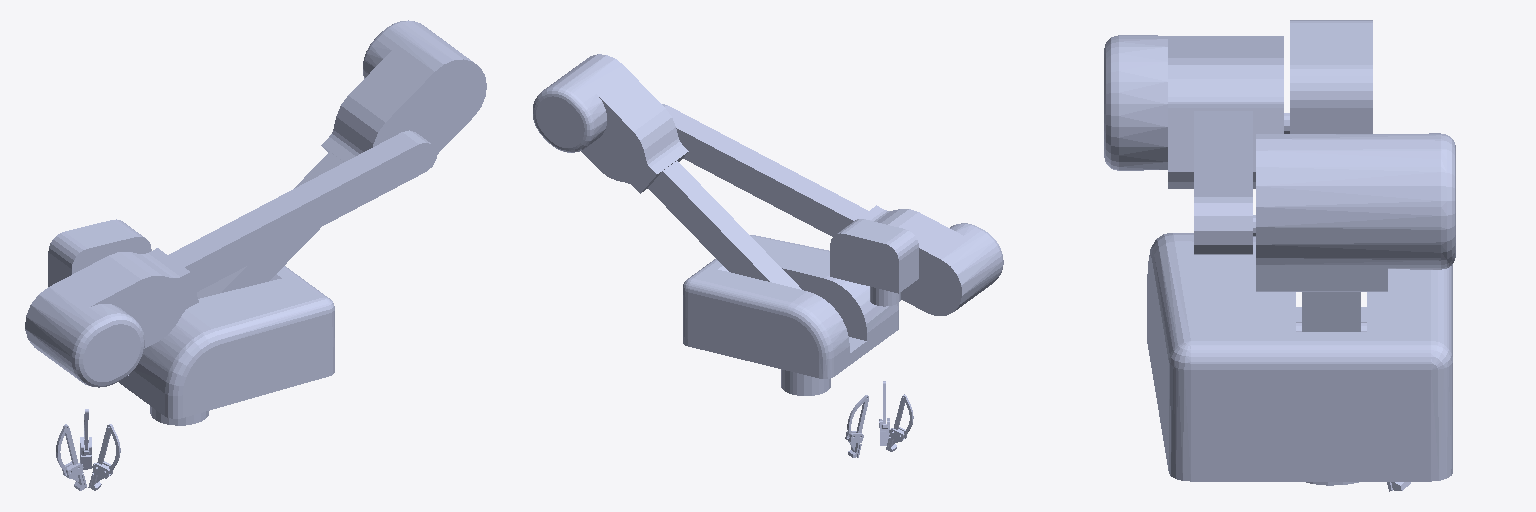
The robot description file, URDF, robot "pipoudou":
<?xml version="1.0" encoding="utf-8" ?>
<!-- This URDF was automatically created by SolidWorks to URDF Exporter! Originally created by [author] ([email redacted]) 
     Commit Version: 1.6.0-4-g7f85cfe  Build Version: 1.6.7995.38578
     For more information, please see http://wiki.ros.org/sw_urdf_exporter -->
<robot name="pipoudou">
    <link name="base_link">
        <!-- <inertial>
            <origin xyz="-0.00589404771376543 -0.172216921474908 0.0957187730055203" rpy="0 0 0" />
            <mass value="10.9085561099122" />
            <inertia ixx="0.0835006955896213" ixy="-0.000486302956665482" ixz="-1.68830866381301E-05" iyy="0.0780175982250961" iyz="-0.000372207979748105" izz="0.144629915038495" />
        </inertial> -->
        <visual>
            <origin xyz="0 0 0" rpy="0 0 0" />
            <geometry>
                <mesh filename="package://pipoudou/meshes/base_link.STL" />
            </geometry>
            <material name="">
                <color rgba="0.792156862745098 0.819607843137255 0.933333333333333 1" />
            </material>
        </visual>
        <collision>
            <origin xyz="0 0 0" rpy="0 0 0" />
            <geometry>
                <mesh filename="package://pipoudou/meshes/base_link.STL" />
            </geometry>
        </collision>
    </link>
    <link name="Joint_Link_1">
        <inertial>
            <origin xyz="-0.0419354714749062 0.0571907967511279 -0.0194583189020789" rpy="0 0 0" />
            <mass value="4.05461553371115" />
            <inertia ixx="0.0186674836378778" ixy="0.00144429847151249" ixz="0.000894000961160699" iyy="0.0327190095637458" iyz="0.000447725667688059" izz="0.0226784769639849" />
        </inertial>
        <visual>
            <origin xyz="0 0 0" rpy="0 0 0" />
            <geometry>
                <mesh filename="package://pipoudou/meshes/Joint_Link_1.STL" />
            </geometry>
            <material name="">
                <color rgba="0.792156862745098 0.819607843137255 0.933333333333333 1" />
            </material>
        </visual>
        <collision>
            <origin xyz="0 0 0" rpy="0 0 0" />
            <geometry>
                <mesh filename="package://pipoudou/meshes/Joint_Link_1.STL" />
            </geometry>
        </collision>
    </link>
    <joint name="Joint_Link_1" type="revolute">
        <origin xyz="0 0 0.126" rpy="1.5708 0 3.1415" />
        <parent link="base_link" />
        <child link="Joint_Link_1" />
        <axis xyz="0 1 0" />
        <limit
          lower="-3.1515"
          upper="2.96706"
          effort="0"
          velocity="0" />
    </joint>
    <link name="Joint_Link_2">
        <inertial>
            <origin xyz="-0.00530103912834451 -0.267556363757934 -0.201059920551774" rpy="0 0 0" />
            <mass value="2.14091331405897" />
            <inertia ixx="0.0351900118557783" ixy="-0.00115816661681989" ixz="-0.000870324597093157" iyy="0.0151835424012374" iyz="-0.0159425460381403" izz="0.0244184526983205" />
        </inertial>
        <visual>
            <origin xyz="0 0 0" rpy="0 0 0" />
            <geometry>
                <mesh filename="package://pipoudou/meshes/Joint_Link_2.STL" />
            </geometry>
            <material name="">
                <color rgba="0.792156862745098 0.819607843137255 0.933333333333333 1" />
            </material>
        </visual>
        <collision>
            <origin xyz="0 0 0" rpy="0 0 0" />
            <geometry>
                <mesh filename="package://pipoudou/meshes/Joint_Link_2.STL" />
            </geometry>
        </collision>
    </link>
    <joint name="Joint_Link_2" type="revolute">
        <origin xyz="-0.0015 0.0542 0" rpy="1.5707963267949 1.5707963267949 0" />
        <parent link="Joint_Link_1" />
        <child link="Joint_Link_2" />
        <axis xyz="1 0 0" />
        <limit
          lower="-0.03073"
          upper="2.5"
          effort="0"
          velocity="0" />
    </joint>
    <link name="Joint_Link_3">
        <inertial>
            <origin xyz="0.00781705470548592 -0.352845842017961 -0.094791262080411" rpy="0 0 0" />
            <mass value="2.05117896930323" />
            <inertia ixx="0.0447591316884685" ixy="0.00202554005626431" ixz="0.000544156896478173" iyy="0.00549957380946362" iyz="-0.0107586884747149" izz="0.042656832970381" />
        </inertial>
        <visual>
            <origin xyz="0 0 0" rpy="0 0 0" />
            <geometry>
                <mesh filename="package://pipoudou/meshes/Joint_Link_3.STL" />
            </geometry>
            <material name="">
                <color rgba="0.792156862745098 0.819607843137255 0.933333333333333 1" />
            </material>
        </visual>
        <collision>
            <origin xyz="0 0 0" rpy="0 0 0" />
            <geometry>
                <mesh filename="package://pipoudou/meshes/Joint_Link_3.STL" />
            </geometry>
        </collision>
    </link>
    <joint name="Joint_Link_3" type="revolute">
        <origin xyz="0.0729999976962511 -0.279802779166052 -0.21026270498443" rpy="-3.14159265358979 0 0" />
        <parent link="Joint_Link_2" />
        <child link="Joint_Link_3" />
        <axis xyz="1 0 0" />
        <limit
          lower="-2.87979"
          upper="0.0872665"
          effort="0"
          velocity="0" />
    </joint>
    <link name="Joint_Link_4">
        <inertial>
            <origin xyz="-0.00128145900425441 -0.00643282828050407 -0.0156990390541649" rpy="0 0 0" />
            <mass value="0.479895774970971" />
            <inertia ixx="0.000704597872477017" ixy="3.95597557777906E-06" ixz="9.65438721271254E-06" iyy="0.000430271991839334" iyz="3.22728443924336E-05" izz="0.000583030081586466" />
        </inertial>
        <visual>
            <origin xyz="0 0 0" rpy="0 0 0" />
            <geometry>
                <mesh filename="package://pipoudou/meshes/Joint_Link_4.STL" />
            </geometry>
            <material name="">
                <color rgba="0.792156862745098 0.819607843137255 0.933333333333333 1" />
            </material>
        </visual>
        <collision>
            <origin xyz="0 0 0" rpy="0 0 0" />
            <geometry>
                <mesh filename="package://pipoudou/meshes/Joint_Link_4.STL" />
            </geometry>
        </collision>
    </link>
    <joint name="Joint_Link_4" type="revolute">
        <origin xyz="-0.0730000000000001 -0.386302779166053 -0.103779394913364" rpy="3.14159265358979 0 3.14159265358979" />
        <parent link="Joint_Link_3" />
        <child link="Joint_Link_4" />
        <axis xyz="1 0 0" />
        <limit
          lower="-1.35"
          upper="1.35"
          effort="0"
          velocity="0" />
    </joint>
    <link name="Hand_Link">
        <inertial>
            <origin xyz="0.003538022414353 0.0934009674500111 0.00572272841520698" rpy="0 0 0" />
            <mass value="0.270355978196213" />
            <inertia ixx="0.000246871496337952" ixy="8.77420170325517E-07" ixz="-2.4101072455635E-07" iyy="0.000198420179541911" iyz="2.18406704397907E-06" izz="0.000248795450899793" />
        </inertial>
        <visual>
            <origin xyz="0 0 0" rpy="0 0 0" />
            <geometry>
                <mesh filename="package://pipoudou/meshes/Hand_Link.STL" />
            </geometry>
            <material name="">
                <color rgba="0.792156862745098 0.819607843137255 0.933333333333333 1" />
            </material>
        </visual>
        <collision>
            <origin xyz="0 0 0" rpy="0 0 0" />
            <geometry>
                <mesh filename="package://pipoudou/meshes/Hand_Link.STL" />
            </geometry>
        </collision>
    </link>
    <joint name="Hand_Link" type="revolute">
        <origin xyz="0 -0.022 0.0179" rpy="1.5707963267949 0 0.49" />
        <parent link="Joint_Link_4" />
        <child link="Hand_Link" />
        <axis xyz="0 1 0" />
        <limit
          lower="-1.93518"
          upper="2.0944"
          effort="0"
          velocity="0" />
    </joint>
    <link name="Finger_link_1">
        <inertial>
            <origin xyz="1.45666936846034E-09 0.0542700697214627 0.00419209902056168" rpy="0 0 0" />
            <mass value="0.00737946646756108" />
            <inertia ixx="1.64260095148187E-06" ixy="3.13372896015046E-14" ixz="9.35831460991248E-15" iyy="3.87683699423791E-07" iyz="3.9770445208839E-08" izz="1.42567240614298E-06" />
        </inertial>
        <visual>
            <origin xyz="0 0 0" rpy="0 0 0" />
            <geometry>
                <mesh filename="package://pipoudou/meshes/Finger_link_1.STL" />
            </geometry>
            <material name="">
                <color rgba="0.792156862745098 0.819607843137255 0.933333333333333 1" />
            </material>
        </visual>
        <collision>
            <origin xyz="0 0 0" rpy="0 0 0" />
            <geometry>
                <mesh filename="package://pipoudou/meshes/Finger_link_1.STL" />
            </geometry>
        </collision>
    </link>
    <joint name="Finger_link_1" type="revolute">
        <origin xyz="-0.015 0.168 0.0259807621135345" rpy="-0.249776778199149 -0.5235987755983 0" />
        <parent link="Hand_Link" />
        <child link="Finger_link_1" />
        <axis xyz="1 0 0" />
        <limit
          lower="-0.1"
          upper="1"
          effort="0"
          velocity="0" />
    </joint>
    <link name="Finger_link_2">
        <inertial>
            <origin xyz="1.45667027042683E-09 0.0542700697214612 0.00419209902056353" rpy="0 0 0" />
            <mass value="0.00737946646756108" />
            <inertia ixx="1.64260095148187E-06" ixy="3.13372893341082E-14" ixz="9.35831476283802E-15" iyy="3.8768369942379E-07" iyz="3.97704452088391E-08" izz="1.42567240614298E-06" />
        </inertial>
        <visual>
            <origin xyz="0 0 0" rpy="0 0 0" />
            <geometry>
                <mesh filename="package://pipoudou/meshes/Finger_link_2.STL" />
            </geometry>
            <material name="">
                <color rgba="0.792156862745098 0.819607843137255 0.933333333333333 1" />
            </material>
        </visual>
        <collision>
            <origin xyz="0 0 0" rpy="0 0 0" />
            <geometry>
                <mesh filename="package://pipoudou/meshes/Finger_link_2.STL" />
            </geometry>
        </collision>
    </link>
    <joint name="Finger_link_2" type="revolute">
        <origin xyz="0.0300000000000032 0.168000000000006 0" rpy="0.24977677819926 1.5707963267949 0" />
        <parent link="Hand_Link" />
        <child link="Finger_link_2" />
        <axis xyz="1 0 0" />
        <limit
          lower="-0.6"
          upper="0.50"
          effort="0"
          velocity="0" />
    </joint>
    <link name="Finger_link_3">
        <inertial>
            <origin xyz="1.46086900909559E-09 0.0542700696800847 0.00419209904821059" rpy="0 0 0" />
            <mass value="0.00737946643540091" />
            <inertia ixx="1.64260095006934E-06" ixy="3.15464630808837E-14" ixz="9.61441978607514E-15" iyy="3.87683698622118E-07" iyz="3.97704458796477E-08" izz="1.42567240579581E-06" />
        </inertial>
        <visual>
            <origin xyz="0 0 0" rpy="0 0 0" />
            <geometry>
                <mesh filename="package://pipoudou/meshes/Finger_link_3.STL" />
            </geometry>
            <material name="">
                <color rgba="0.792156862745098 0.819607843137255 0.933333333333333 1" />
            </material>
        </visual>
        <collision>
            <origin xyz="0 0 0" rpy="0 0 0" />
            <geometry>
                <mesh filename="package://pipoudou/meshes/Finger_link_3.STL" />
            </geometry>
        </collision>
    </link>
    <joint name="Finger_link_3" type="revolute">
        <origin xyz="-0.0149999999999997 0.168000000000001 -0.0259807621135309" rpy="2.89181587539058 -0.523598775598316 3.14159265358979" />
        <parent link="Hand_Link" />
        <child link="Finger_link_3" />
        <axis xyz="1 0 0" />
        <limit
          lower="-0.1"
          upper="1"
          effort="0"
          velocity="0" />
    </joint>
    <transmission name="trans_Joint_Link_1">
        <type>transmission_interface/SimpleTransmission</type>
        <joint name="Joint_Link_1">
            <hardwareInterface>hardware_interface/EffortJointInterface</hardwareInterface>
        </joint>
        <actuator name="Joint_Link_1_motor">
            <hardwareInterface>hardware_interface/EffortJointInterface</hardwareInterface>
            <mechanicalReduction>1</mechanicalReduction>
        </actuator>
    </transmission>
    <transmission name="trans_Joint_Link_2">
        <type>transmission_interface/SimpleTransmission</type>
        <joint name="Joint_Link_2">
            <hardwareInterface>hardware_interface/EffortJointInterface</hardwareInterface>
        </joint>
        <actuator name="Joint_Link_2_motor">
            <hardwareInterface>hardware_interface/EffortJointInterface</hardwareInterface>
            <mechanicalReduction>1</mechanicalReduction>
        </actuator>
    </transmission>
    <transmission name="trans_Joint_Link_3">
        <type>transmission_interface/SimpleTransmission</type>
        <joint name="Joint_Link_3">
            <hardwareInterface>hardware_interface/EffortJointInterface</hardwareInterface>
        </joint>
        <actuator name="Joint_Link_3_motor">
            <hardwareInterface>hardware_interface/EffortJointInterface</hardwareInterface>
            <mechanicalReduction>1</mechanicalReduction>
        </actuator>
    </transmission>
    <transmission name="trans_Joint_Link_4">
        <type>transmission_interface/SimpleTransmission</type>
        <joint name="Joint_Link_4">
            <hardwareInterface>hardware_interface/EffortJointInterface</hardwareInterface>
        </joint>
        <actuator name="Joint_Link_4_motor">
            <hardwareInterface>hardware_interface/EffortJointInterface</hardwareInterface>
            <mechanicalReduction>1</mechanicalReduction>
        </actuator>
    </transmission>
    <transmission name="trans_Hand_Link">
        <type>transmission_interface/SimpleTransmission</type>
        <joint name="Hand_Link">
            <hardwareInterface>hardware_interface/EffortJointInterface</hardwareInterface>
        </joint>
        <actuator name="Hand_Link_motor">
            <hardwareInterface>hardware_interface/EffortJointInterface</hardwareInterface>
            <mechanicalReduction>1</mechanicalReduction>
        </actuator>
    </transmission>
    <transmission name="trans_Finger_link_1">
        <type>transmission_interface/SimpleTransmission</type>
        <joint name="Finger_link_1">
            <hardwareInterface>hardware_interface/EffortJointInterface</hardwareInterface>
        </joint>
        <actuator name="Finger_link_1_motor">
            <hardwareInterface>hardware_interface/EffortJointInterface</hardwareInterface>
            <mechanicalReduction>1</mechanicalReduction>
        </actuator>
    </transmission>
    <transmission name="trans_Finger_link_2">
        <type>transmission_interface/SimpleTransmission</type>
        <joint name="Finger_link_2">
            <hardwareInterface>hardware_interface/EffortJointInterface</hardwareInterface>
        </joint>
        <actuator name="Finger_link_2_motor">
            <hardwareInterface>hardware_interface/EffortJointInterface</hardwareInterface>
            <mechanicalReduction>1</mechanicalReduction>
        </actuator>
    </transmission>
    <transmission name="trans_Finger_link_3">
        <type>transmission_interface/SimpleTransmission</type>
        <joint name="Finger_link_3">
            <hardwareInterface>hardware_interface/EffortJointInterface</hardwareInterface>
        </joint>
        <actuator name="Finger_link_3_motor">
            <hardwareInterface>hardware_interface/EffortJointInterface</hardwareInterface>
            <mechanicalReduction>1</mechanicalReduction>
        </actuator>
    </transmission>
    <gazebo>
        <plugin name="gazebo_ros_control">
            <robotNamespace>/</robotNamespace>
        </plugin>
    </gazebo>
</robot>

--- Render facts (derived) ---
Views: 3 orthographic renders of the robot side by side, from view 1: azimuth 30°, elevation 25°; view 2: azimuth 150°, elevation 25°; view 3: azimuth 270°, elevation 25°.
Model pipoudou with 9 links and 8 joints (8 revolute), rooted at base_link, posed all joints at 0.
Links seen in each view (by area): view 1: Joint_Link_3, Joint_Link_1, Joint_Link_2, Joint_Link_4, Finger_link_1, Finger_link_3; view 2: Joint_Link_1, Joint_Link_2, Joint_Link_3, Joint_Link_4, Finger_link_2, Finger_link_1; view 3: Joint_Link_1, Joint_Link_2, Joint_Link_3, Joint_Link_4.
Link boxes in pixels (box(x1,y1,x2,y2)): Joint_Link_3: box(25, 130, 436, 387); Joint_Link_1: box(119, 266, 334, 425); Joint_Link_2: box(197, 20, 486, 298); Joint_Link_4: box(48, 219, 151, 286); Finger_link_1: box(56, 424, 86, 490); Finger_link_3: box(88, 424, 120, 490); Joint_Link_1: box(683, 235, 898, 395); Joint_Link_2: box(533, 54, 801, 289); Joint_Link_3: box(662, 104, 1003, 315); Joint_Link_4: box(830, 219, 918, 306); Finger_link_2: box(845, 395, 868, 457); Finger_link_1: box(886, 394, 913, 451); Joint_Link_1: box(1147, 233, 1452, 485); Joint_Link_2: box(1256, 133, 1455, 331); Joint_Link_3: box(1104, 35, 1283, 254); Joint_Link_4: box(1284, 20, 1372, 133).
Size in the robot's own frame: 0.6262 by 0.238 by 0.4715 metres.
Meshes: 9 distinct files referenced, 7 mesh visuals loaded (7 binary STL); not drawn: 2 (reference not matched to a file when rendering).
